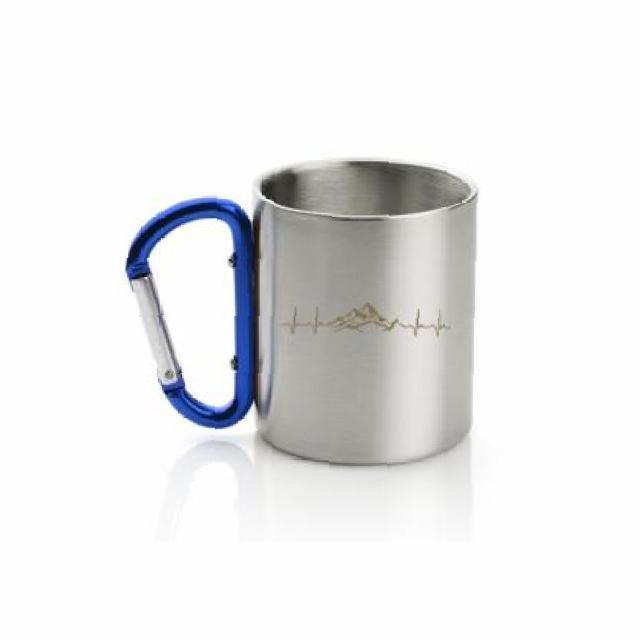cup: (115, 149, 489, 485)
